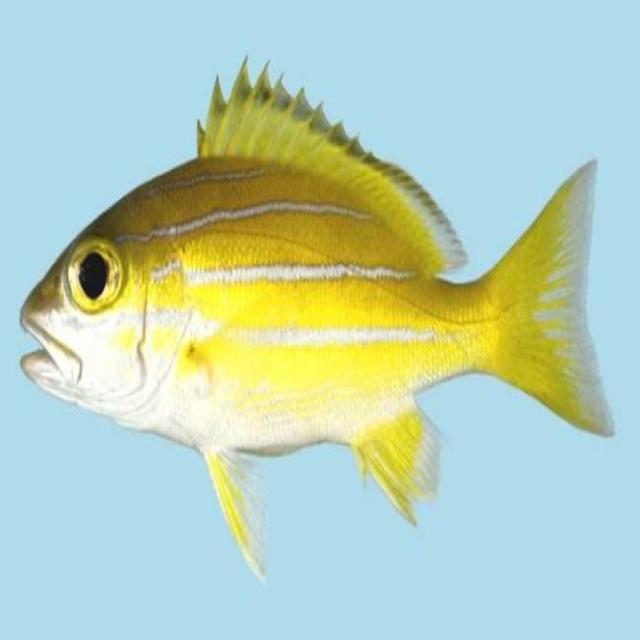ikan: (18, 52, 615, 581)
